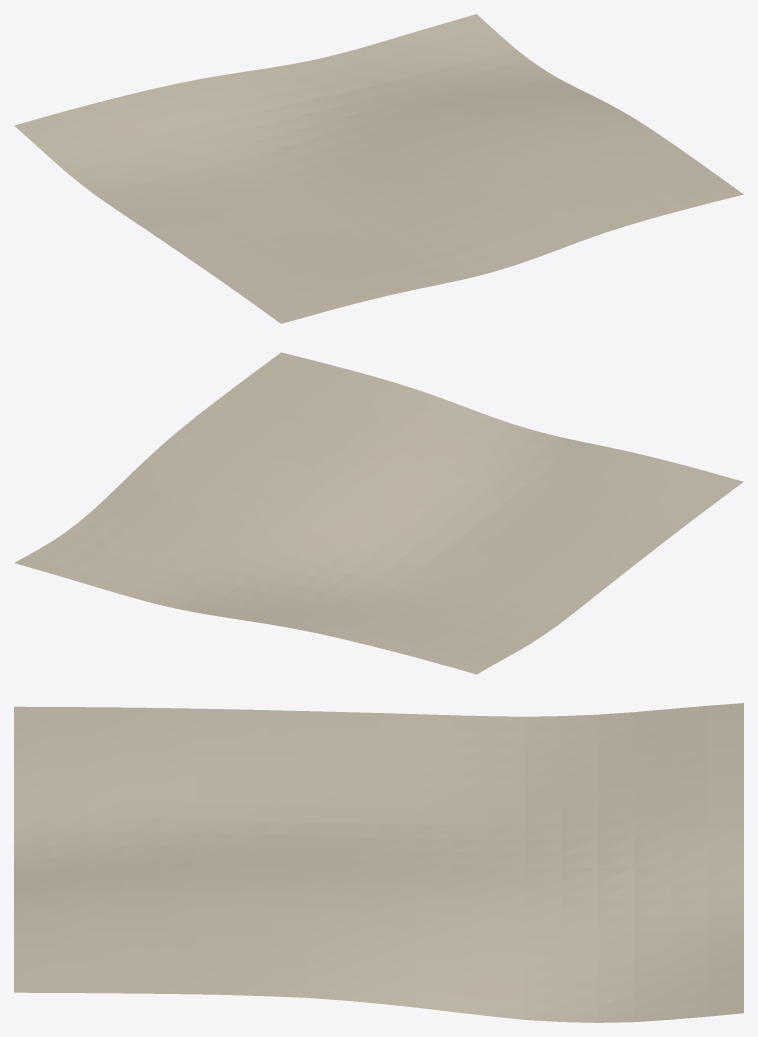
Rendered from bolak_-23_7.glb.
3 renders of one model, top to bottom at view 1: azimuth 30°, elevation 25°; view 2: azimuth 150°, elevation 25°; view 3: azimuth 270°, elevation 25°, orthographic. The views are drawn at different scales.
Parts seen in each view (by area): view 1: Yer_Tuproq-col; view 2: Yer_Tuproq-col; view 3: Yer_Tuproq-col.
Part boxes in pixels (box(x1,y1,x2,y2)): Yer_Tuproq-col: box(14, 14, 743, 323); Yer_Tuproq-col: box(14, 352, 743, 674); Yer_Tuproq-col: box(14, 703, 743, 1022).
Size of the model in its own units: 400 by 20.31 by 400.
